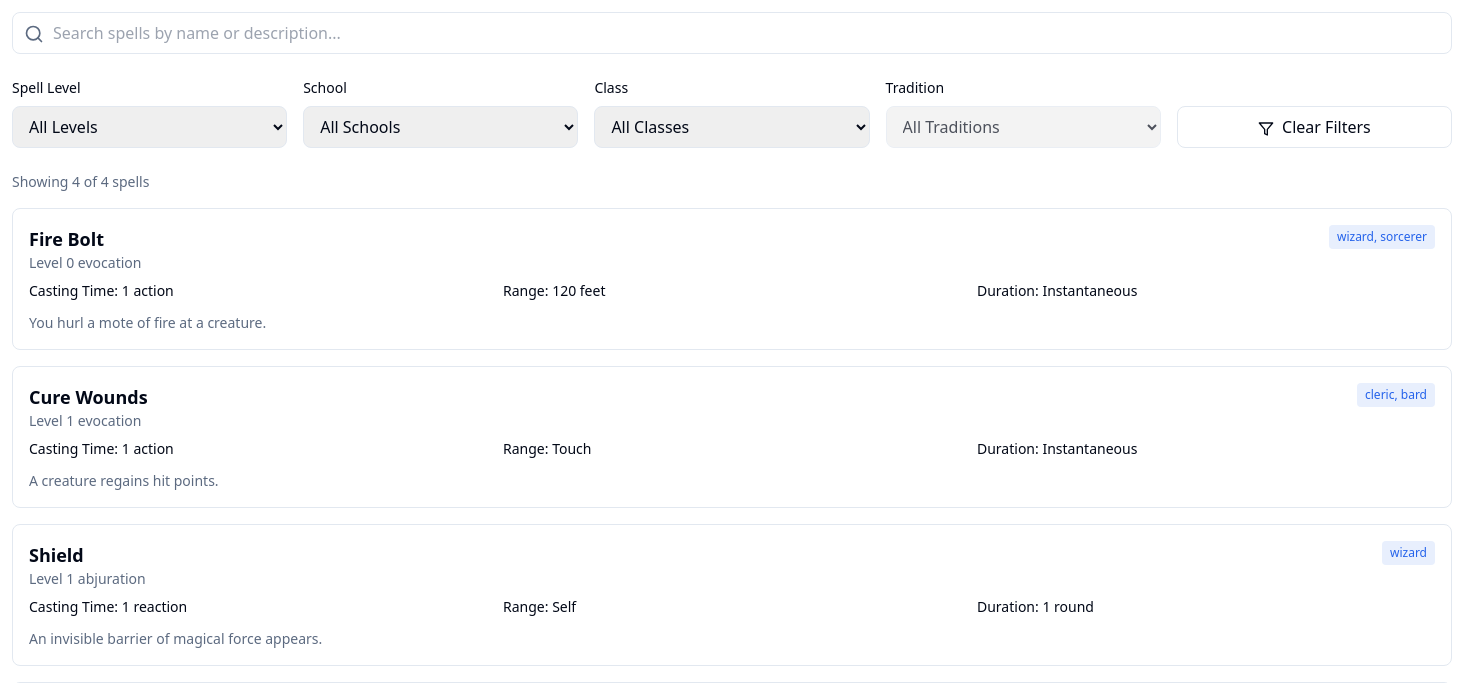
Scenario: SpellBrowser › filters spells by school
Select "Illusion" in the dropdown named "Filter by spell school" at (441, 127), box [303,106,578,148]
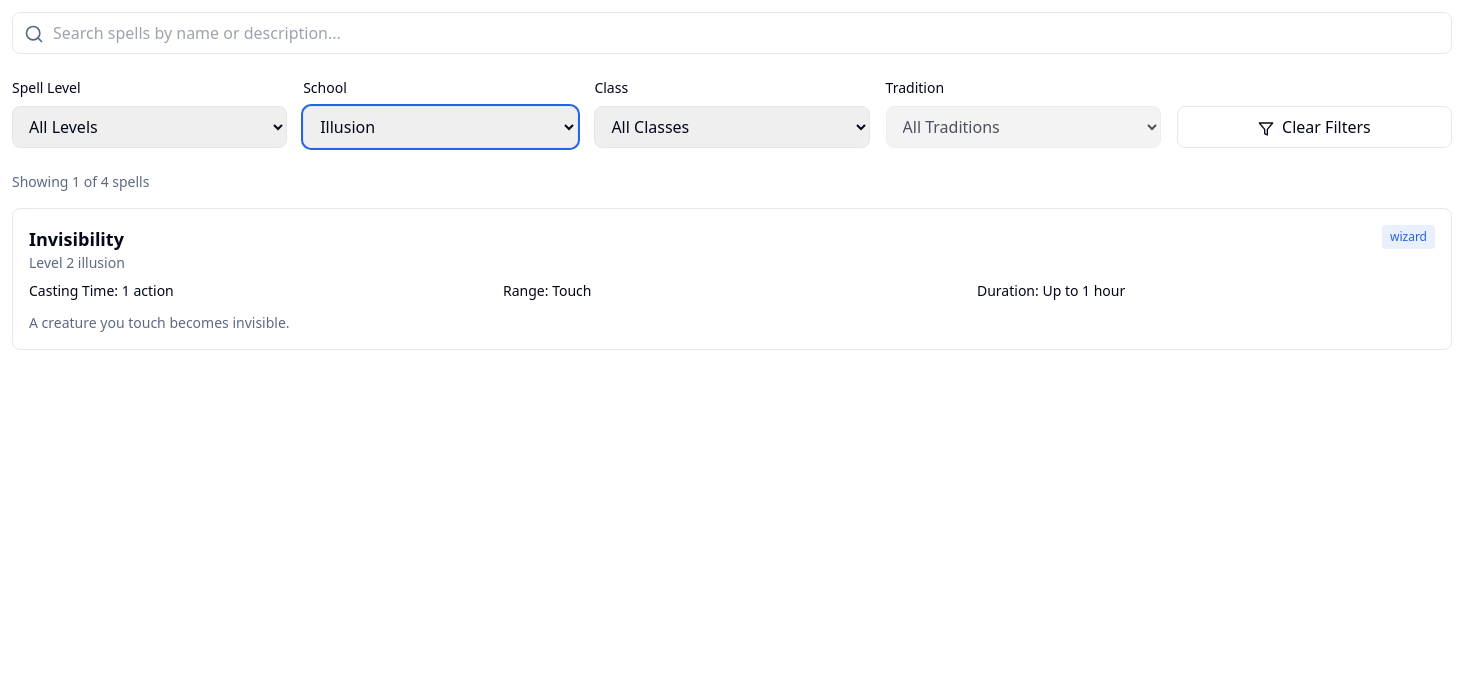
Expected: the heading "Invisibility" is shown, [29,225,125,253]
Expected: the text "Showing 1 of 4 spells" is shown, [12,172,150,191]
Expected: the button "Shield" is gone
